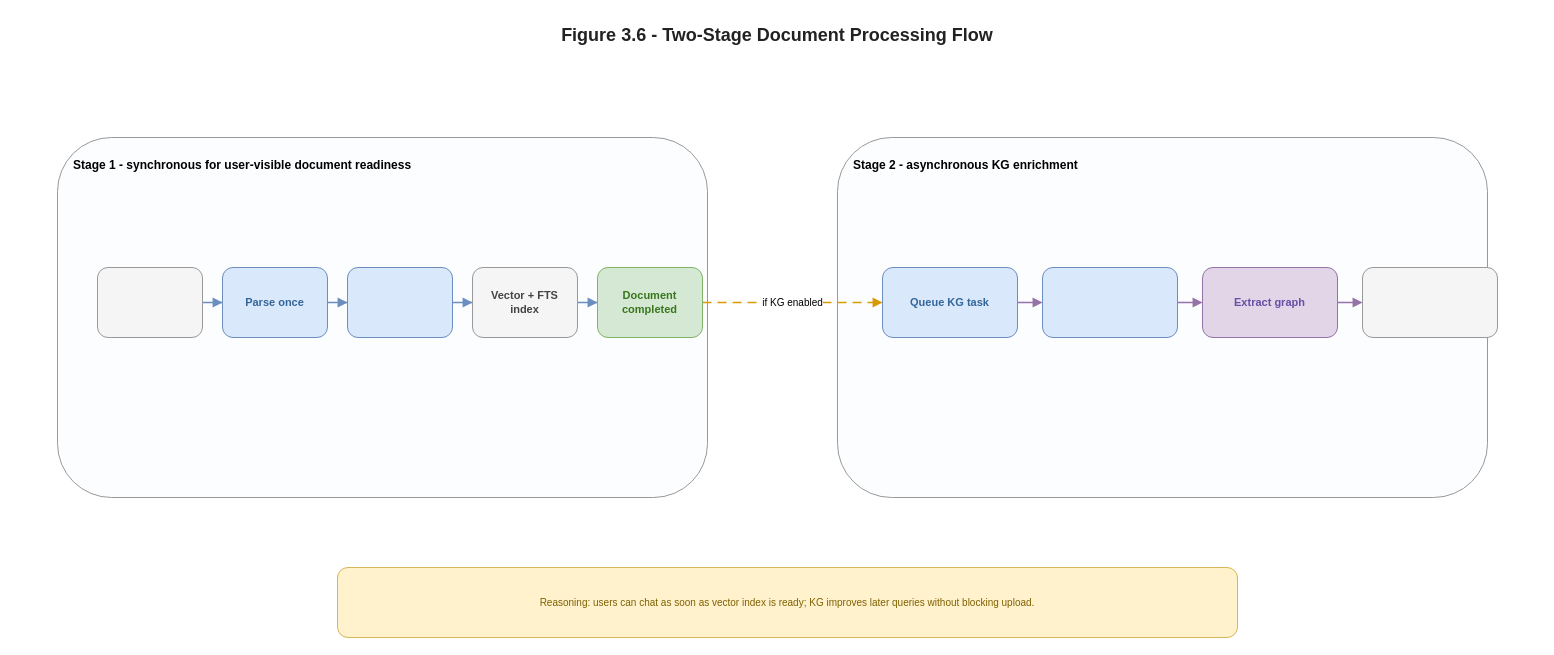
Image size: 1554x655. Some labels were removed from this diagram. Here are the shapes that lost their labels. From the top down, the centre of each, then its label:
At (x=149, y=302): "Upload".
At (x=399, y=302): "Chunk by domain".
At (x=1110, y=302): "Sanitize full text".
At (x=1430, y=302): "Store graph + vectors".
